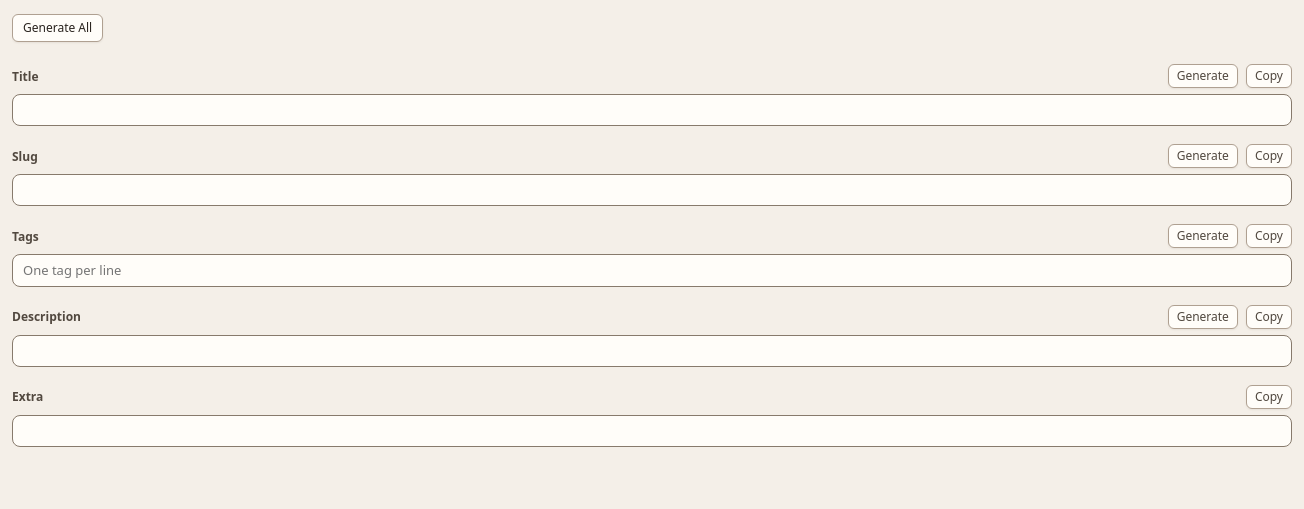
MetadataTab copy and error dismiss › keeps a failed copy inside the affected metadata field
Click the button with class "meta-field-copy" in the row of "Title": (1269, 76) left=1246, top=64, right=1292, bottom=88
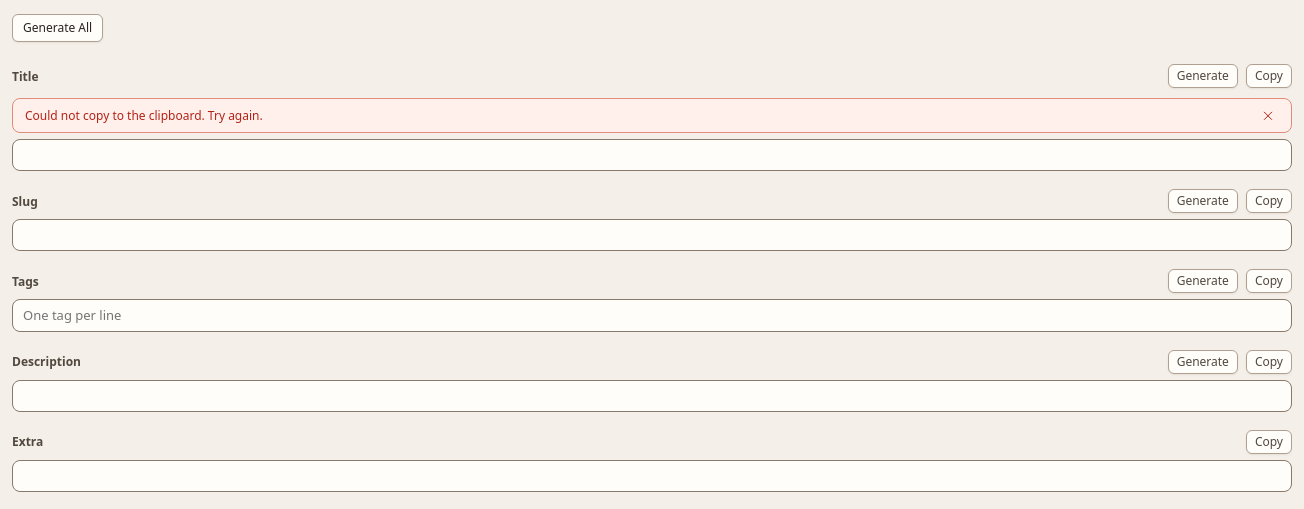
Check: the message "Could not copy to the clipboard. Try again." is shown, box left=12, top=98, right=1292, bottom=133
